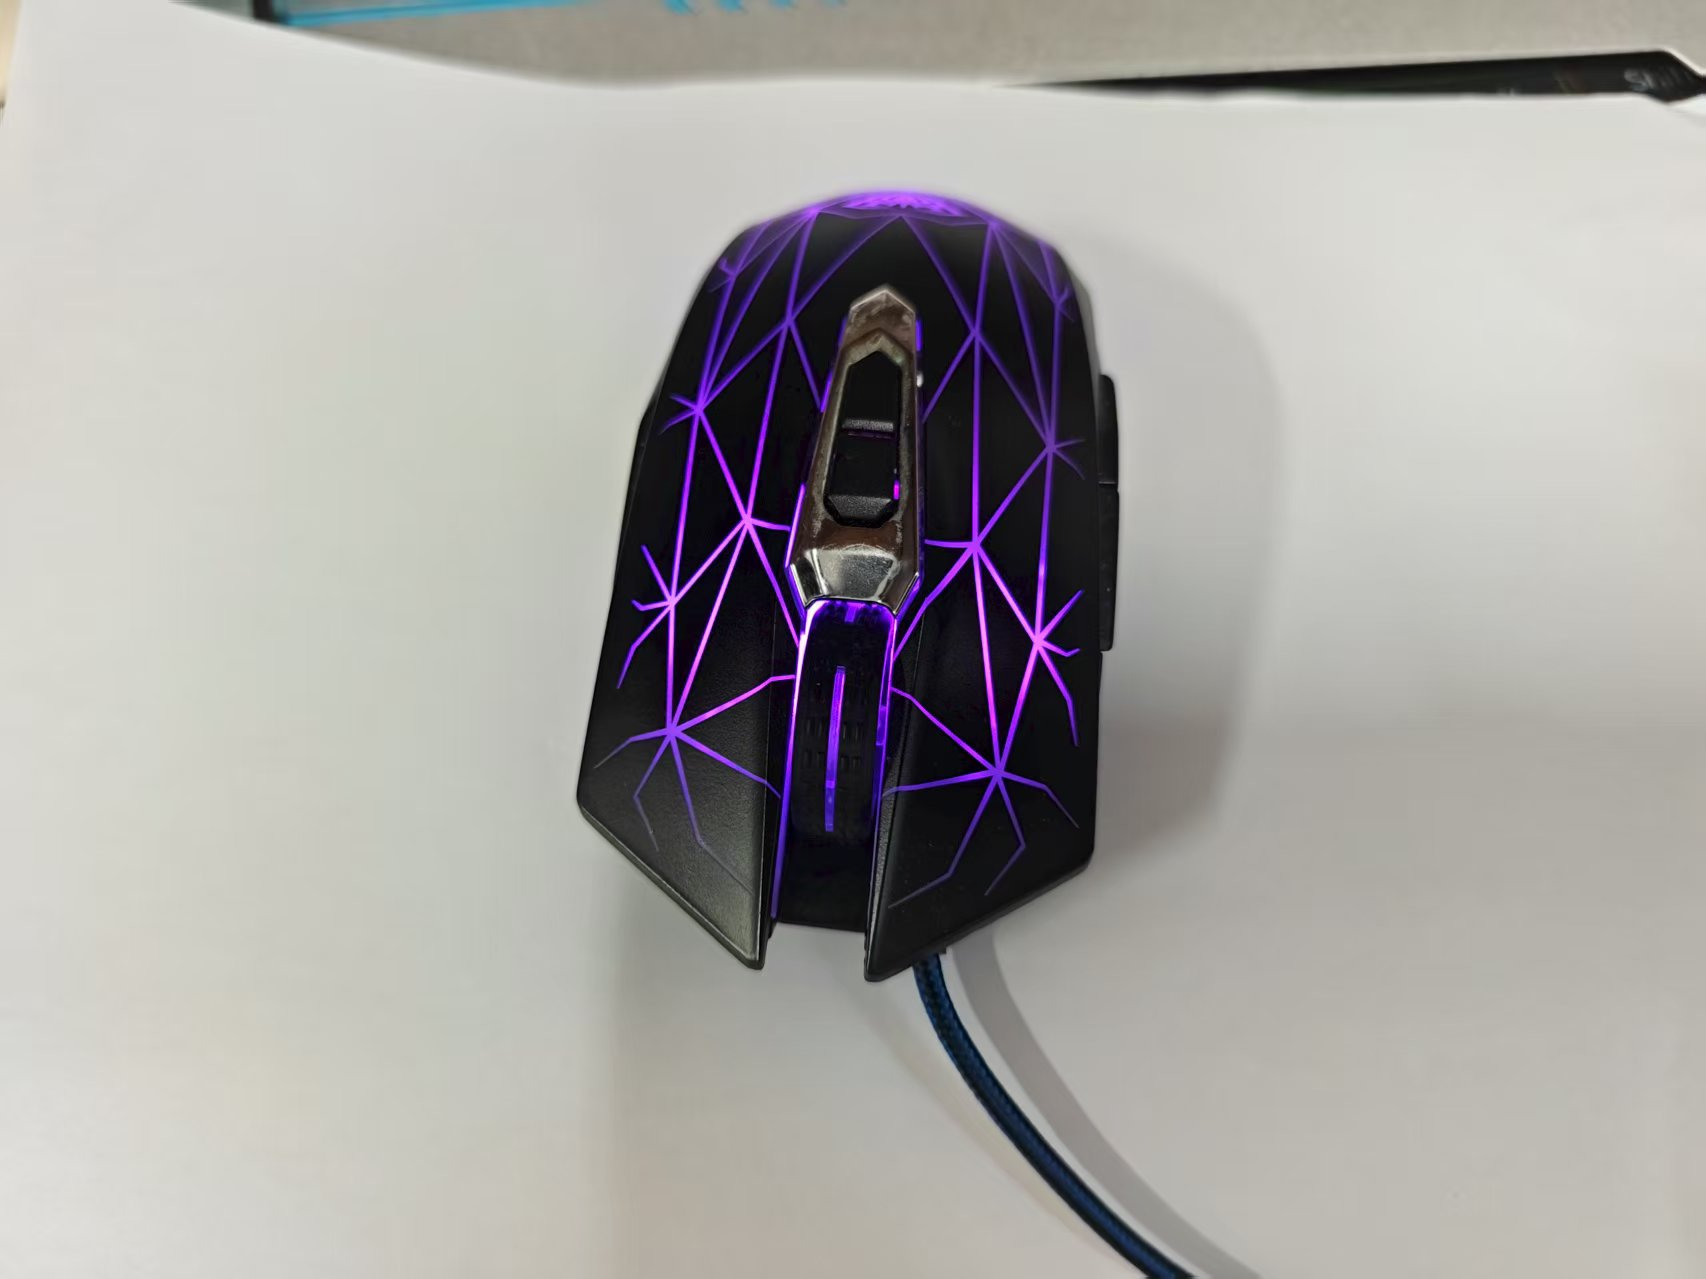mouse: (451, 161, 1161, 986)
